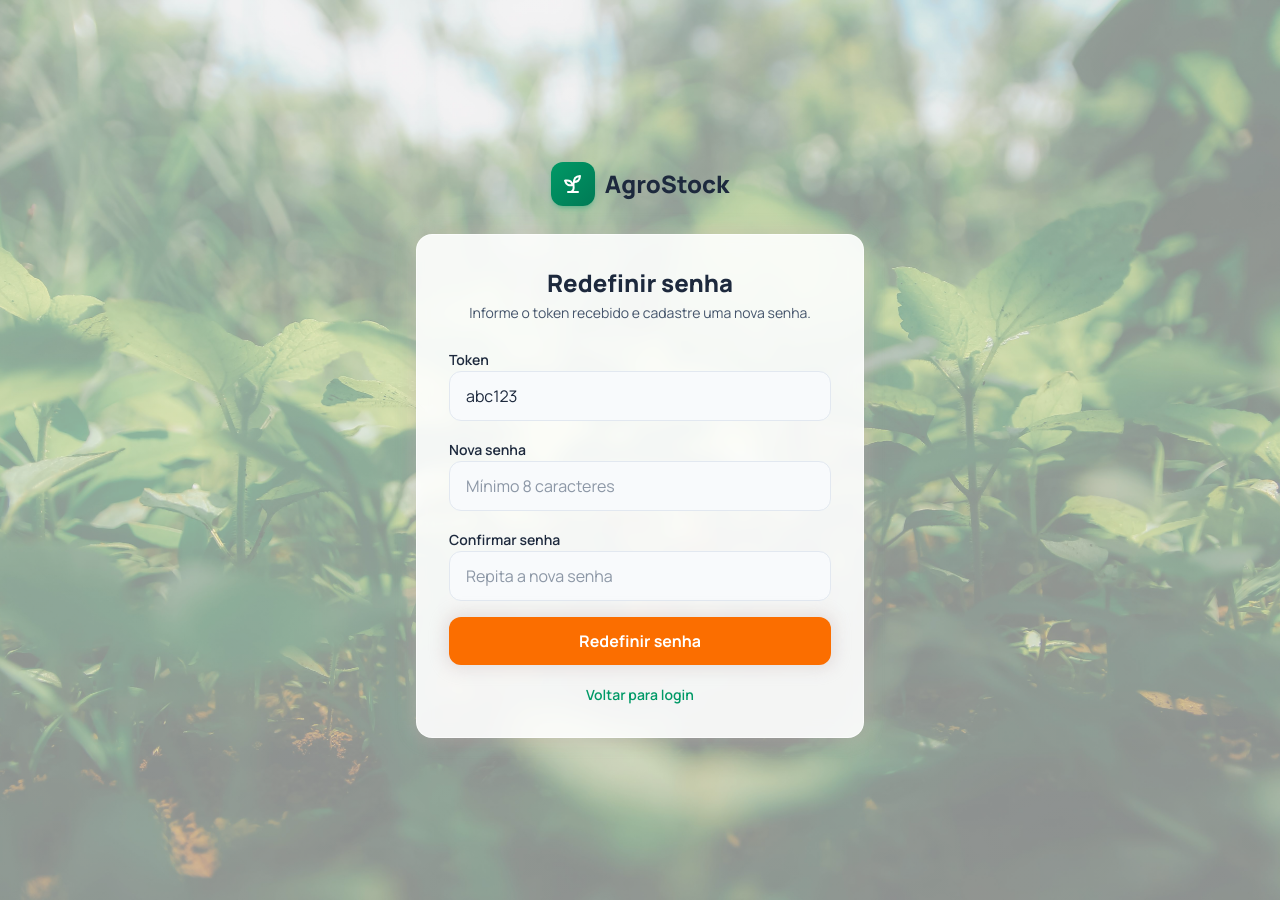
Test case: Recuperação de senha › F19 lê o token da URL e valida a nova senha antes de enviar
expect the field labelled "Token" holds "abc123": met, box 449,371 -> 831,421
Type "Senha1234" into the password field labelled "Nova senha" at (640, 486), box 449,461 -> 831,511
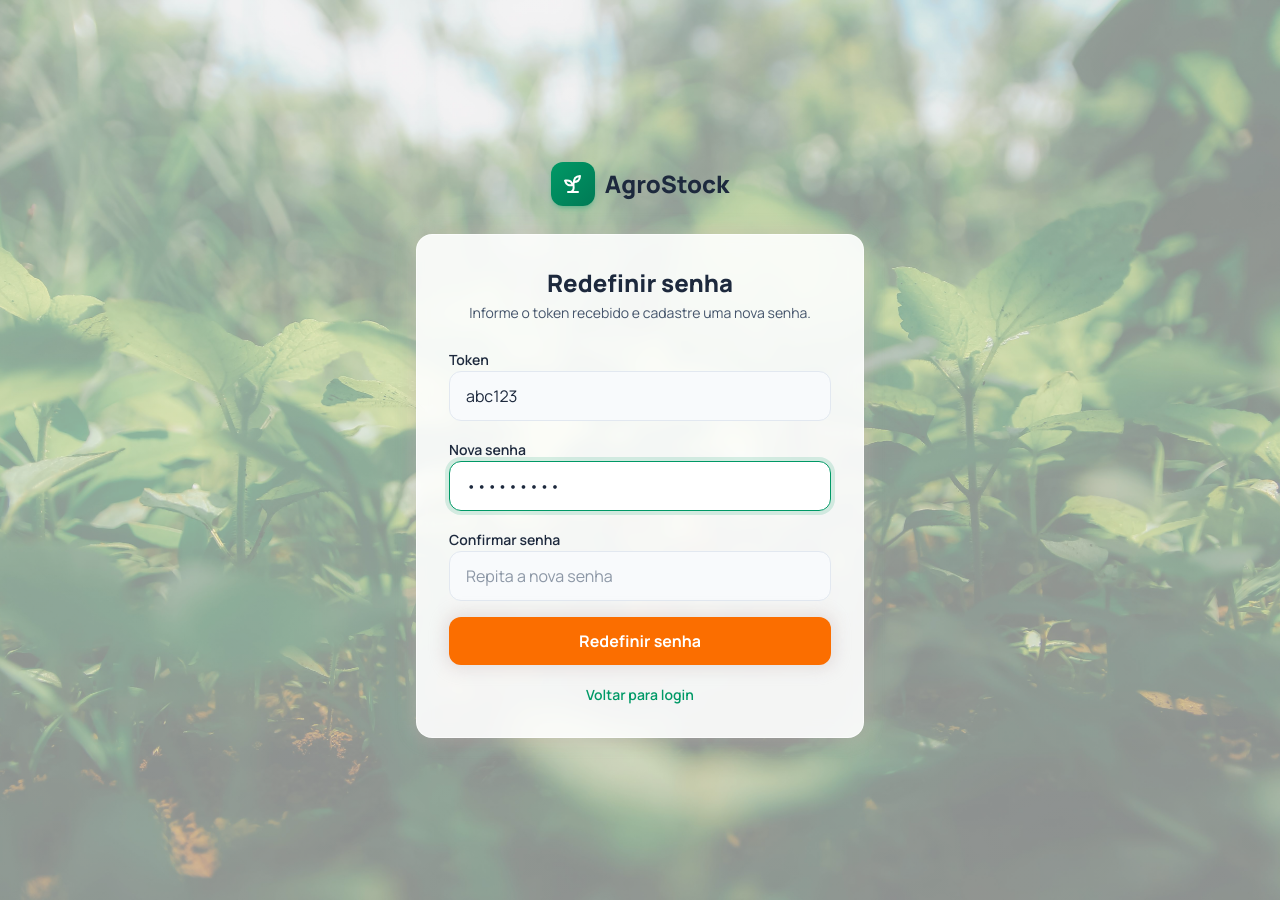
Type "Senha9999" into the password field labelled "Confirmar senha" at (640, 576), box 449,551 -> 831,601
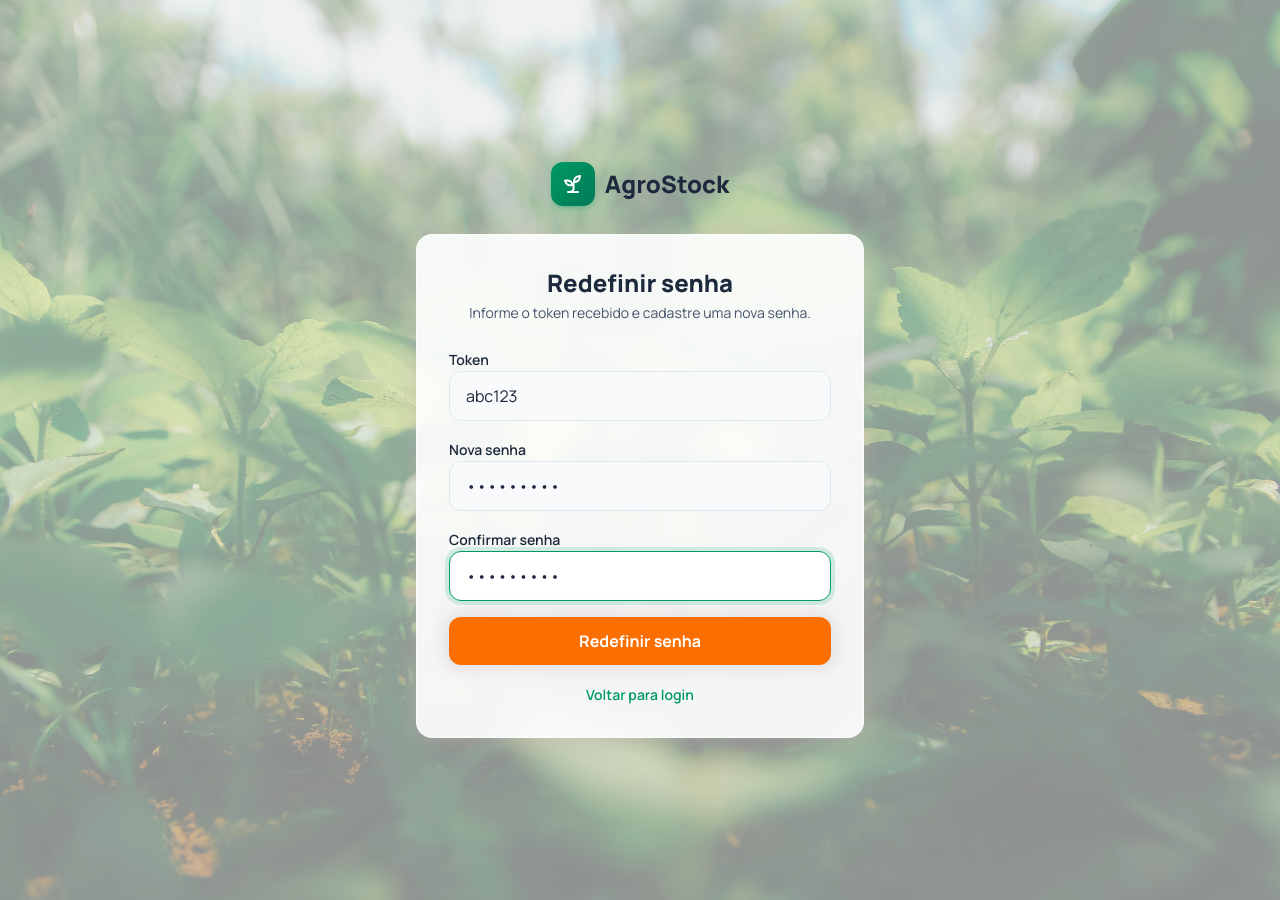
Click the button "Redefinir senha" at (640, 641), box 449,617 -> 831,665
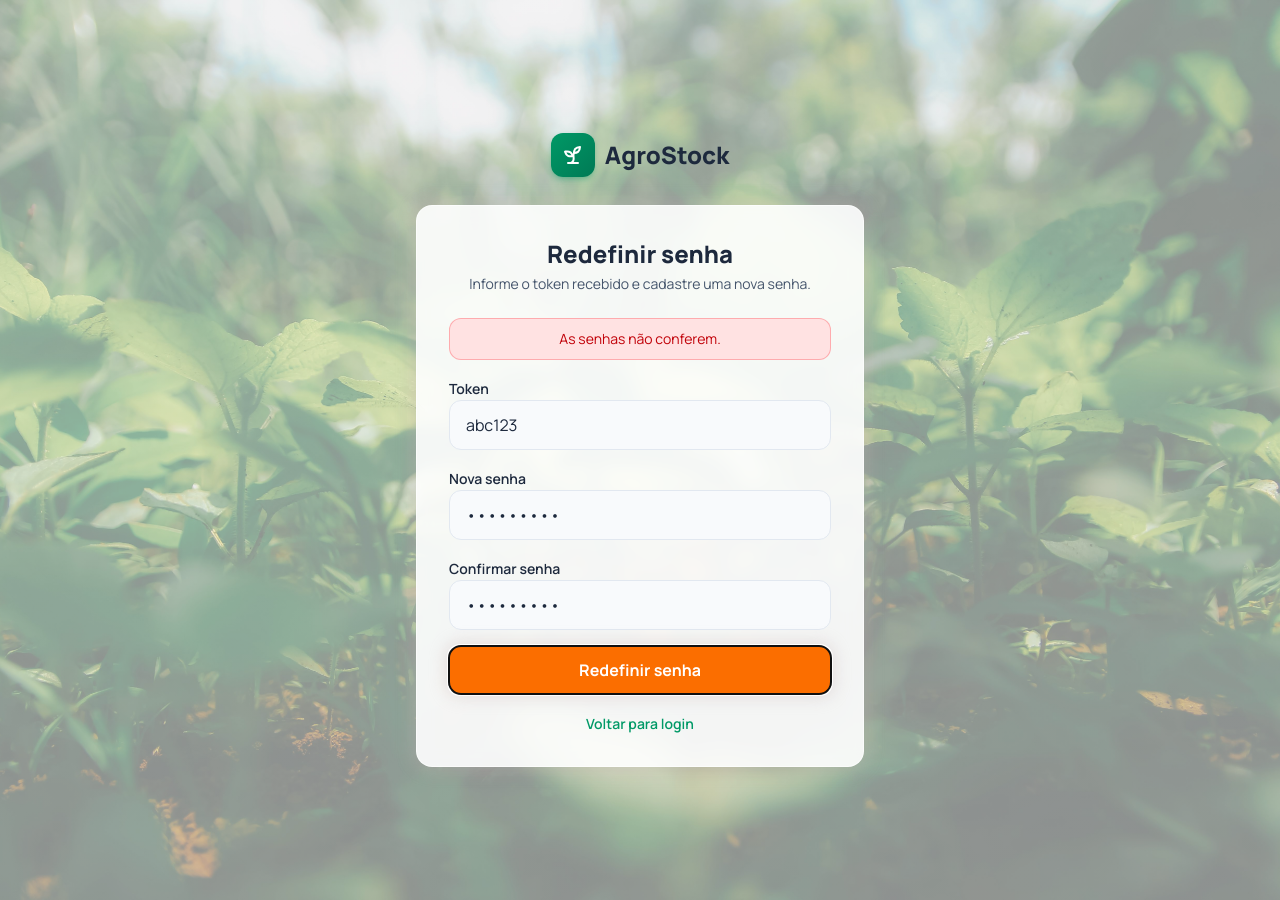
expect the text "As senhas não conferem." is shown: met, box 449,318 -> 831,360
